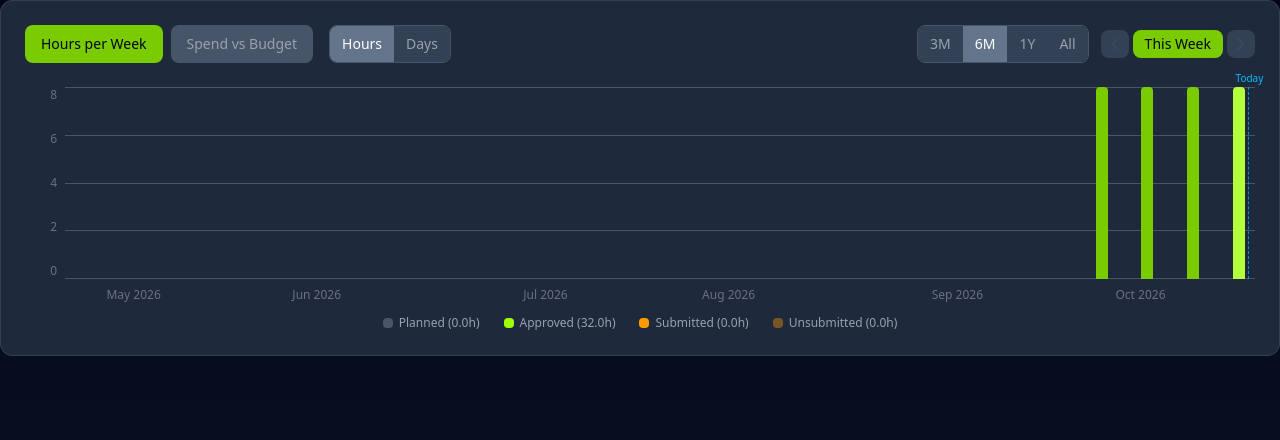
Scenario: Spend vs Budget chart with hidden figures › shows the empty state in effort mode when Estimate and Time Spent are both hidden
The image size is (1280, 440).
Click the button "Spend vs Budget". click: point(242, 44)
box: left=171, top=25, right=313, bottom=63
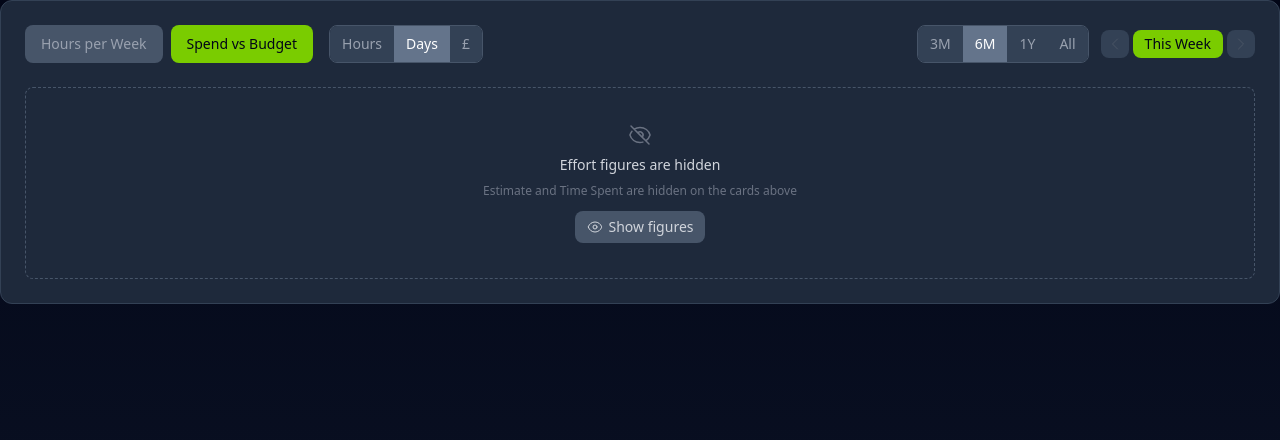
Now the text "Effort figures are hidden" is shown, box left=560, top=155, right=720, bottom=175
Now the text "Estimate and Time Spent are hidden on the cards above" is shown, box left=483, top=183, right=797, bottom=199
Click the button "Show figures". click: point(640, 227)
box: left=574, top=211, right=706, bottom=243
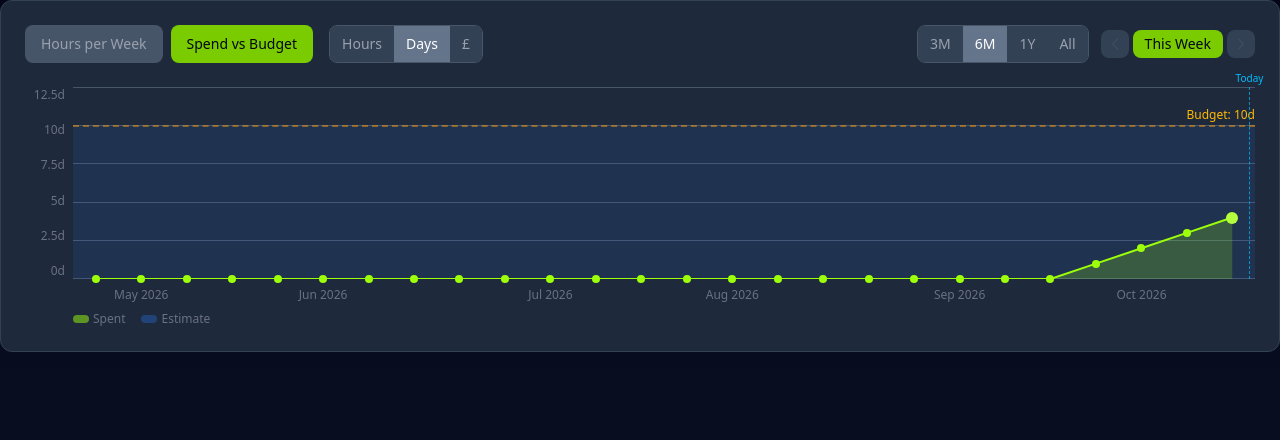
Now the text "Budget: 10d" is shown, box left=1186, top=107, right=1255, bottom=123
